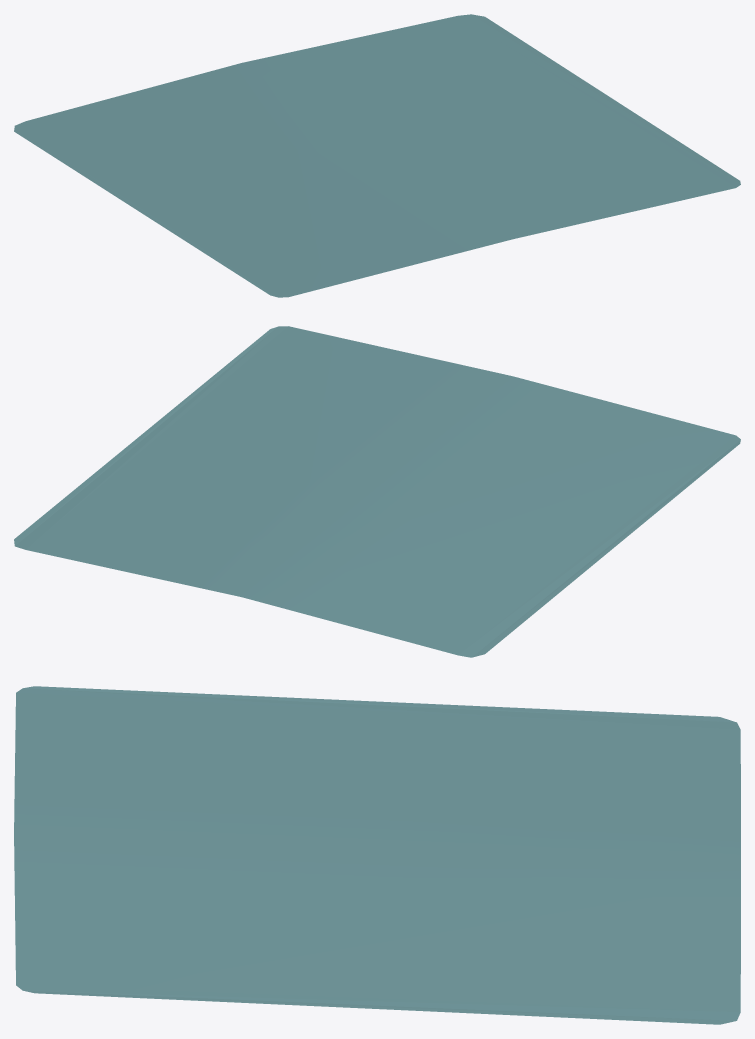
The model's file is SUV_2_Roof_Window_R_Tessellate.fbx.
The picture shows the model from 3 angles, top to bottom: view 1: azimuth 30°, elevation 25°; view 2: azimuth 150°, elevation 25°; view 3: azimuth 270°, elevation 25°; orthographic projection. The views are drawn at different scales.
Visible parts, largest first — view 1: SUV_2_Roof_Window_R_Tessellate; view 2: SUV_2_Roof_Window_R_Tessellate; view 3: SUV_2_Roof_Window_R_Tessellate.
Part boxes in pixels (x1,y1,x2,y2): SUV_2_Roof_Window_R_Tessellate: (14,14,740,297); SUV_2_Roof_Window_R_Tessellate: (14,326,740,657); SUV_2_Roof_Window_R_Tessellate: (14,686,740,1024).
Size of the model in its own units: 81.21 by 4.66 by 81.04.
